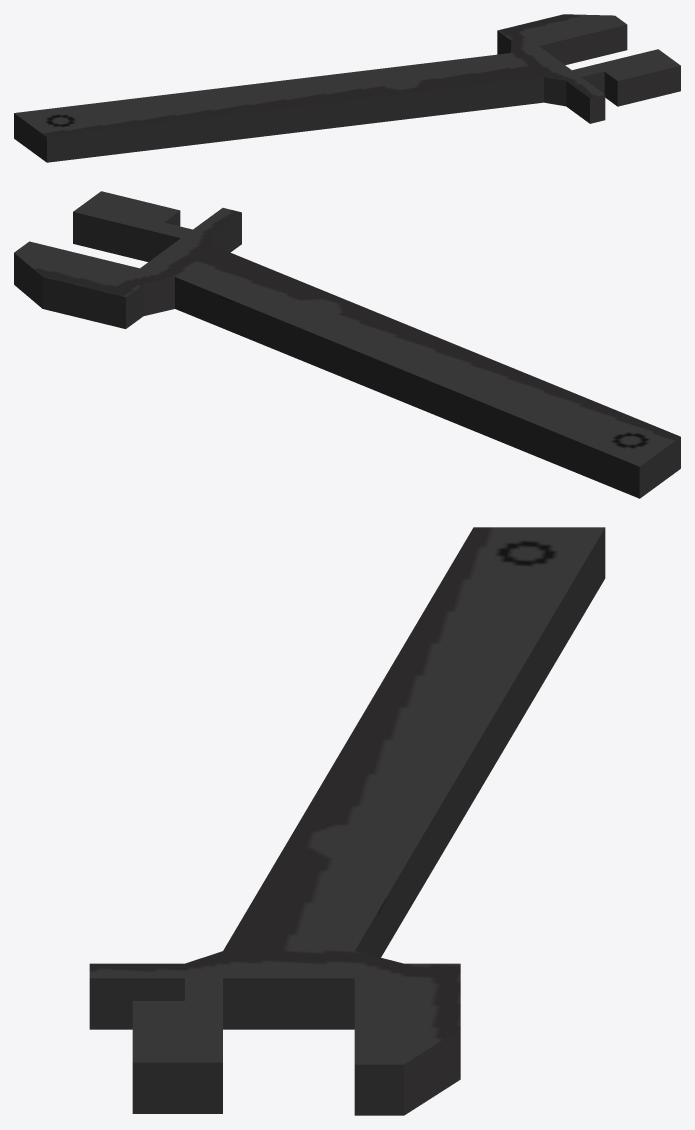
The model's file is wrench.obj.
3 renders of one model, top to bottom at view 1: azimuth 30°, elevation 25°; view 2: azimuth 150°, elevation 25°; view 3: azimuth 270°, elevation 25°, orthographic. The views are drawn at different scales.
Visible parts, largest first — view 1: Cube; view 2: Cube; view 3: Cube.
Part boxes in pixels (x1,y1,x2,y2): Cube: [14, 14, 680, 162]; Cube: [14, 191, 680, 498]; Cube: [89, 527, 605, 1115].
Size of the model in its own units: 1.32 by 0.0588 by 0.5372.
1 material, 1 textured.
